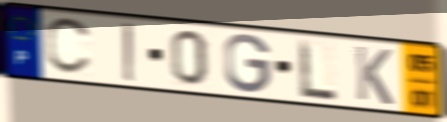0: (167, 28, 213, 89)
C: (43, 16, 95, 78)
G: (223, 32, 274, 95)
I: (121, 21, 139, 85)
K: (353, 43, 395, 108)
L: (296, 37, 339, 102)
